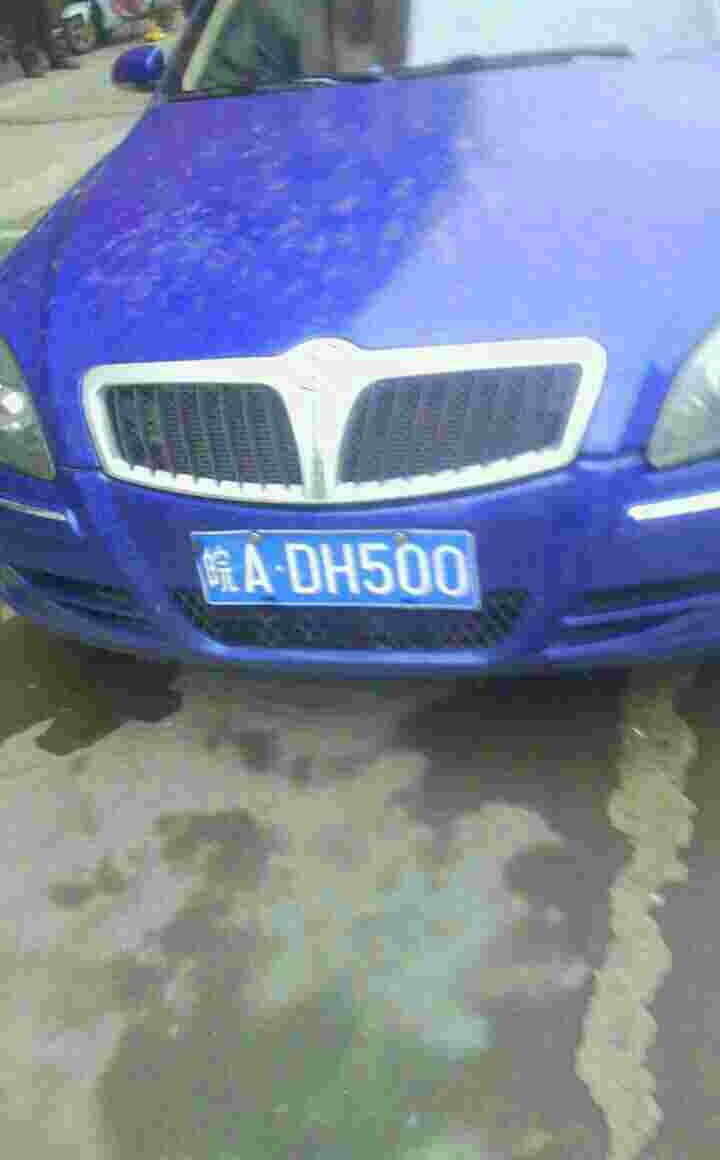license_plate: (195, 525, 487, 612)
